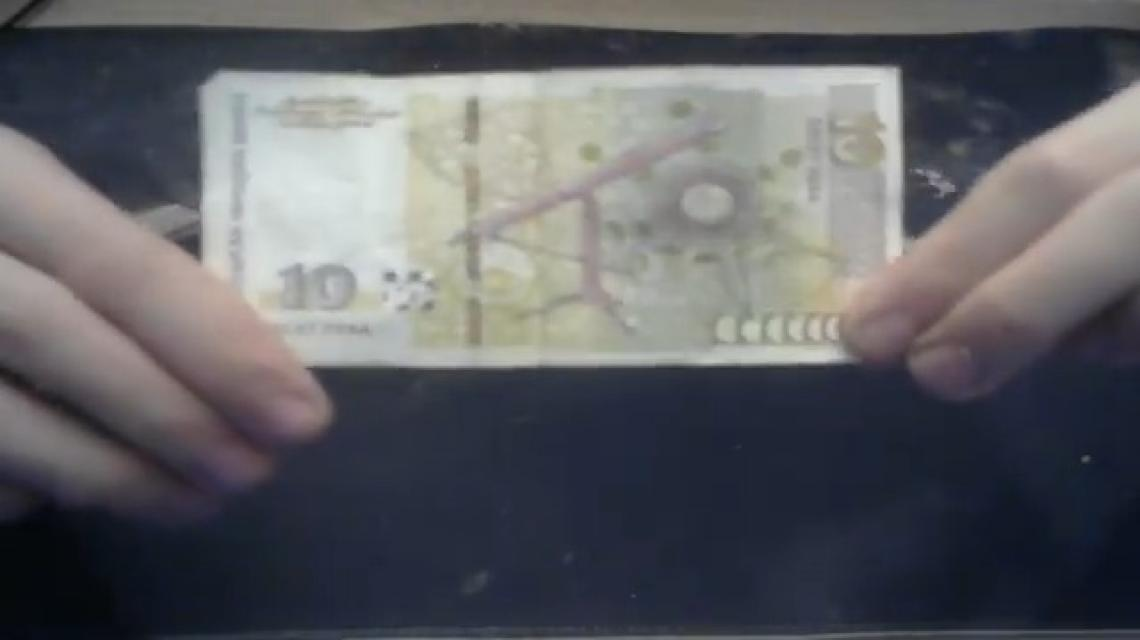10leva: (0, 30, 998, 372)
